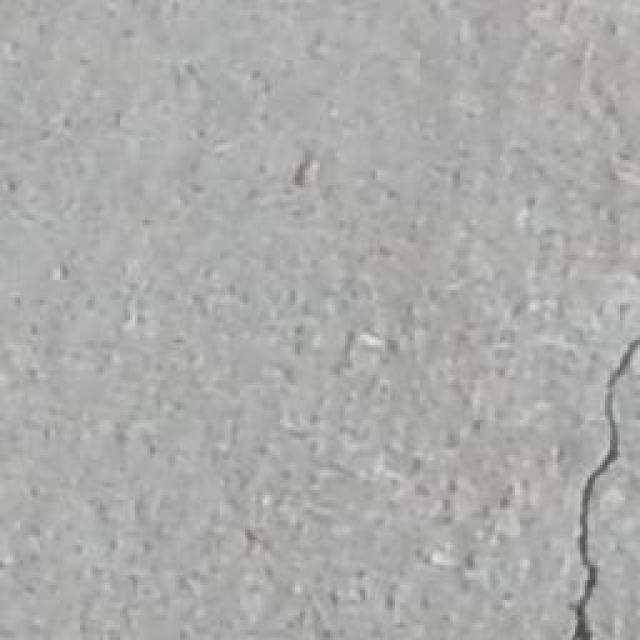concrete-crack: (568, 333, 638, 640)
